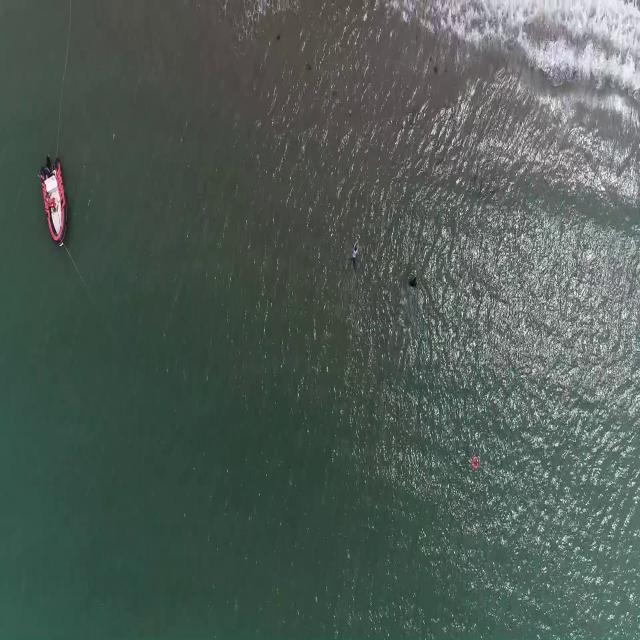boat: (38, 157, 68, 246)
life_buoy: (472, 455, 480, 470)
person: (349, 238, 362, 269), (409, 271, 418, 291)
